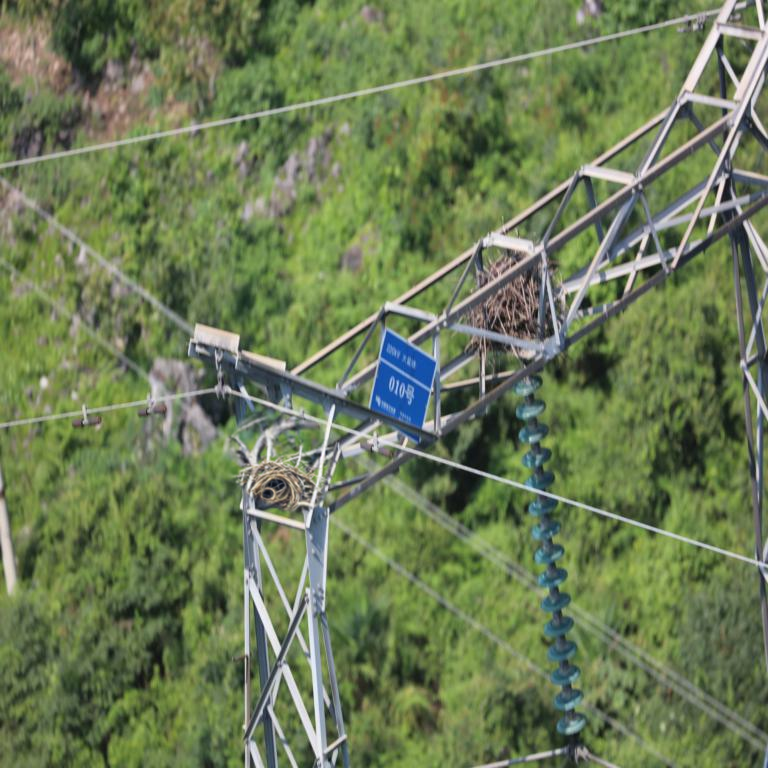nest: (472, 255, 567, 346), (242, 461, 306, 512)
